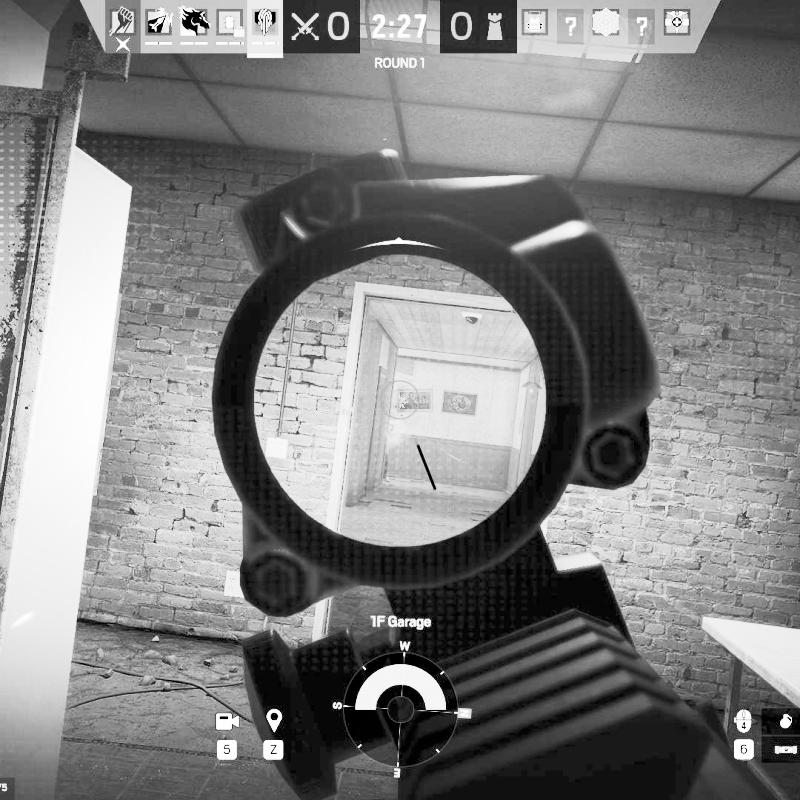Character: (382, 410, 397, 483)
Friend_label: (331, 404, 361, 428)
Head: (390, 411, 396, 420)
